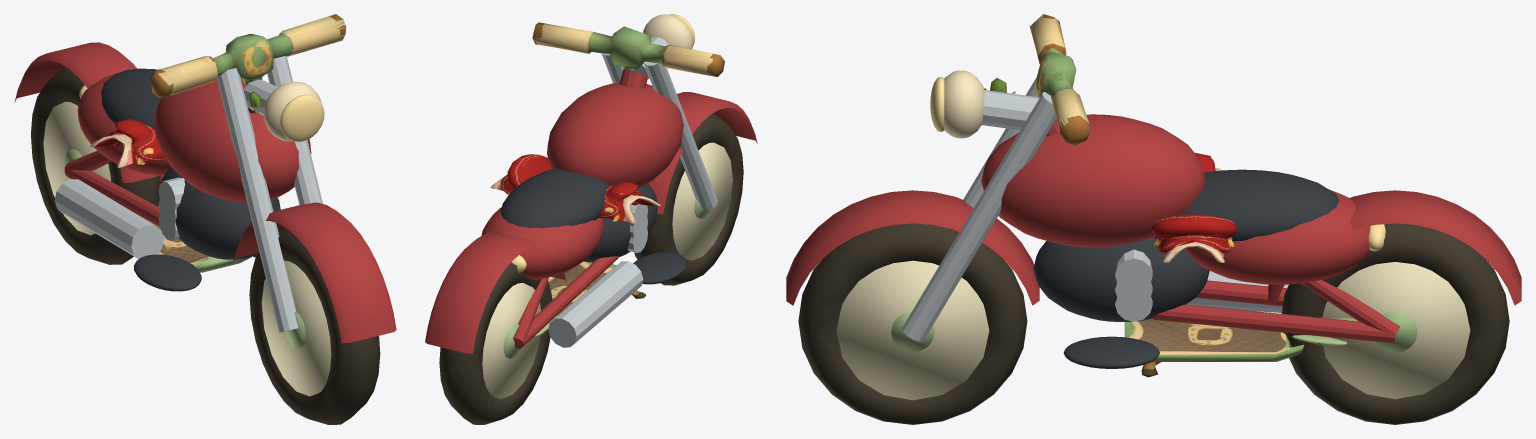
The picture shows the model from 3 angles, left to right: view 1: azimuth 30°, elevation 25°; view 2: azimuth 150°, elevation 25°; view 3: azimuth 270°, elevation 25°; orthographic projection. The views are drawn at different scales.
Parts seen in each view (by area): view 1: wheel_front, 연료 탱크, 앞 흙받이, wheel_rear, tripo_mesh_caba9cc8-8769-4b67-b362-f041629eba61.004, 앞 포크, 엔진, 배기통, 뒤 흙받이, 안장 받침, 뒤 차체, saddle-red (+10 smaller); view 2: 연료 탱크, wheel_rear, wheel_front, 뒤 흙받이, 안장 받침, tripo_mesh_caba9cc8-8769-4b67-b362-f041629eba61.004, 뒤 차체, 배기통, 앞 흙받이, saddle-red, 앞 포크, 체인 스테이 (+8 smaller); view 3: wheel_front, wheel_rear, 연료 탱크, 엔진, 뒤 차체, 앞 흙받이, 안장 받침, 앞 포크.001, 뒤 흙받이, body, tripo_mesh_caba9cc8-8769-4b67-b362-f041629eba61.004, 체인 스테이.001 (+11 smaller).
Part boxes in pixels (left/top/right/bottom): wheel_front: left=249, top=227, right=380, bottom=424; 연료 탱크: left=154, top=78, right=311, bottom=202; 앞 흙받이: left=233, top=202, right=396, bottom=343; wheel_rear: left=31, top=66, right=160, bottom=264; tripo_mesh_caba9cc8-8769-4b67-b362-f041629eba61.004: left=150, top=14, right=346, bottom=114; 앞 포크: left=217, top=68, right=297, bottom=332; 엔진: left=158, top=167, right=280, bottom=259; 배기통: left=54, top=179, right=163, bottom=259; 뒤 흙받이: left=14, top=42, right=158, bottom=183; 안장 받침: left=101, top=68, right=161, bottom=128; 뒤 차체: left=77, top=72, right=170, bottom=175; saddle-red: left=90, top=119, right=166, bottom=167; 연료 탱크: left=547, top=82, right=683, bottom=188; wheel_rear: left=439, top=262, right=551, bottom=424; wheel_front: left=634, top=113, right=743, bottom=285; 뒤 흙받이: left=425, top=231, right=566, bottom=353; 안장 받침: left=500, top=168, right=609, bottom=228; tripo_mesh_caba9cc8-8769-4b67-b362-f041629eba61.004: left=532, top=22, right=724, bottom=76; 뒤 차체: left=481, top=207, right=604, bottom=279; 배기통: left=548, top=261, right=643, bottom=347; 앞 흙받이: left=648, top=92, right=757, bottom=214; saddle-red: left=490, top=154, right=660, bottom=223; 앞 포크: left=643, top=61, right=717, bottom=210; 체인 스테이: left=515, top=256, right=618, bottom=348; wheel_front: left=798, top=223, right=1027, bottom=424; wheel_rear: left=1281, top=223, right=1509, bottom=424; 연료 탱크: left=981, top=114, right=1205, bottom=247; 엔진: left=1033, top=236, right=1209, bottom=321; 뒤 차체: left=1185, top=189, right=1370, bottom=284; 앞 흙받이: left=786, top=190, right=1039, bottom=305; 안장 받침: left=1180, top=169, right=1339, bottom=241; 앞 포크.001: left=901, top=92, right=1056, bottom=341; 뒤 흙받이: left=1268, top=190, right=1521, bottom=305; body: left=1124, top=317, right=1358, bottom=377; tripo_mesh_caba9cc8-8769-4b67-b362-f041629eba61.004: left=984, top=14, right=1090, bottom=145; 체인 스테이.001: left=1153, top=304, right=1395, bottom=343.
Size of the model in its own units: 0.638 by 1.01 by 1.83.
Materials: 11 (2 with a texture image).
